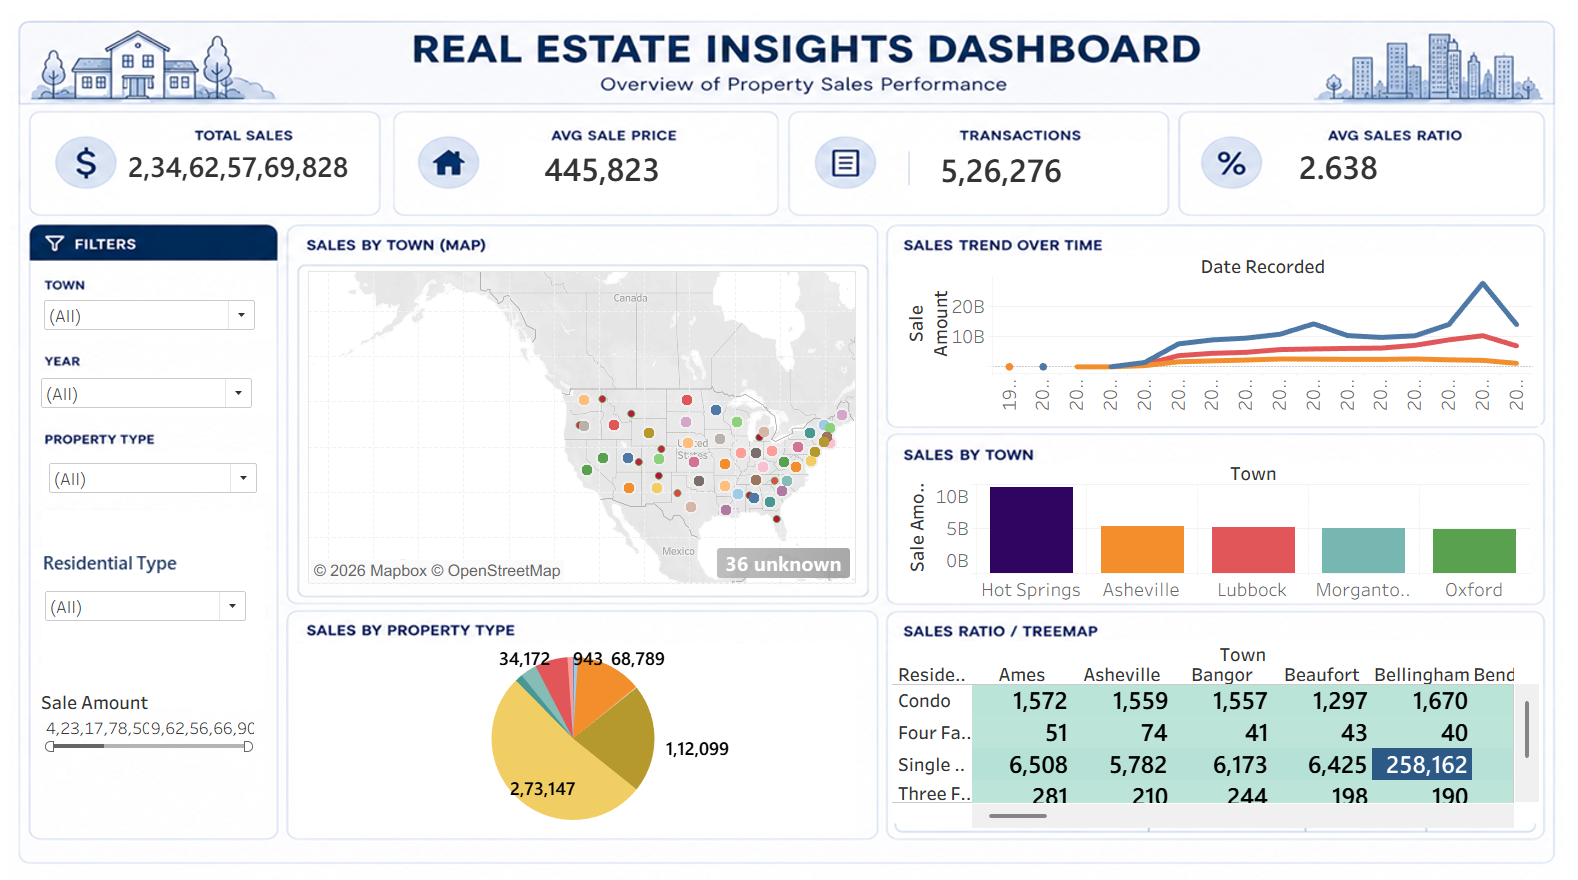

The page's visual inventory and layout, read from the dashboard file:
{"tool":"tableau","page":{"name":"Dashboard ","canvas":[1580,900],"ordinal":0},"visuals":[{"type":"image","param":"Image/Real Estate Insights Dashboard.png","box":[8,8,1564,884]},{"type":"worksheet","title":"Avg Sale Ratio","mark":"Automatic","box":[1285,143,165,53]},{"type":"worksheet","title":"Avg sales","mark":"Automatic","box":[527,145,178,53]},{"type":"worksheet","title":"Total Sales","mark":"Automatic","box":[127,146,258,56]},{"type":"worksheet","title":"Total Transactions","mark":"Automatic","box":[929,146,185,57]},{"type":"worksheet","title":"Sales Trend","mark":"Line","rows":["Sale Amount"],"cols":["Date Recorded"],"box":[899,255,637,156]},{"type":"worksheet","title":"Real Estate Sales Map","mark":"Automatic","box":[311,270,548,313]},{"type":"filter","title":"Sales by Town","param":"[federated.13a21m00ippc4u14wrvvn0k1yr3s].[none:Town:nk]","box":[44,296,217,38]},{"type":"filter","title":"Sales Trend","param":"[federated.13a21m00ippc4u14wrvvn0k1yr3s].[yr:Date Recorded:ok]","box":[41,375,217,34]},{"type":"filter","title":"Property Type Distribution","param":"[federated.13a21m00ippc4u14wrvvn0k1yr3s].[none:Property Type:nk]","box":[49,462,214,31]},{"type":"worksheet","title":"Sales by Town","mark":"Automatic","rows":["Sale Amount"],"cols":["Town"],"box":[900,462,633,139]},{"type":"filter","title":"Sales Ratio by Town","param":"[federated.13a21m00ippc4u14wrvvn0k1yr3s].[none:Residential Type:nk]","box":[45,587,207,38]},{"type":"worksheet","title":"Property Type Distribution","mark":"Pie","box":[298,643,556,189]},{"type":"worksheet","title":"Sales Ratio by Town","mark":"Square","rows":["Calculation_1914286725804034"],"cols":["Town"],"box":[895,643,647,184]},{"type":"filter","title":"Real Estate Sales Map","param":"[federated.13a21m00ippc4u14wrvvn0k1yr3s].[sum:Sale Amount:qk]","box":[44,688,216,81]}]}

Visuals, with their boxes in screenshot pixels (x1, y1, x2, y2), scaled from the page's 1580x900 canvas onto the 1578x880 screenshot:
image: pyautogui.locateOnScreen(8, 8, 1570, 872)
"Avg Sale Ratio" worksheet: pyautogui.locateOnScreen(1283, 140, 1448, 192)
"Avg sales" worksheet: pyautogui.locateOnScreen(526, 142, 704, 194)
"Total Sales" worksheet: pyautogui.locateOnScreen(127, 143, 385, 198)
"Total Transactions" worksheet: pyautogui.locateOnScreen(928, 143, 1113, 198)
"Sales Trend" worksheet (Line marks): pyautogui.locateOnScreen(898, 249, 1534, 402)
"Real Estate Sales Map" worksheet: pyautogui.locateOnScreen(311, 264, 858, 570)
"Sales by Town" filter: pyautogui.locateOnScreen(44, 289, 261, 327)
"Sales Trend" filter: pyautogui.locateOnScreen(41, 367, 258, 400)
"Property Type Distribution" filter: pyautogui.locateOnScreen(49, 452, 263, 482)
"Sales by Town" worksheet: pyautogui.locateOnScreen(899, 452, 1531, 588)
"Sales Ratio by Town" filter: pyautogui.locateOnScreen(45, 574, 252, 611)
"Property Type Distribution" worksheet (Pie marks): pyautogui.locateOnScreen(298, 629, 853, 814)
"Sales Ratio by Town" worksheet (Square marks): pyautogui.locateOnScreen(894, 629, 1540, 809)
"Real Estate Sales Map" filter: pyautogui.locateOnScreen(44, 673, 260, 752)
